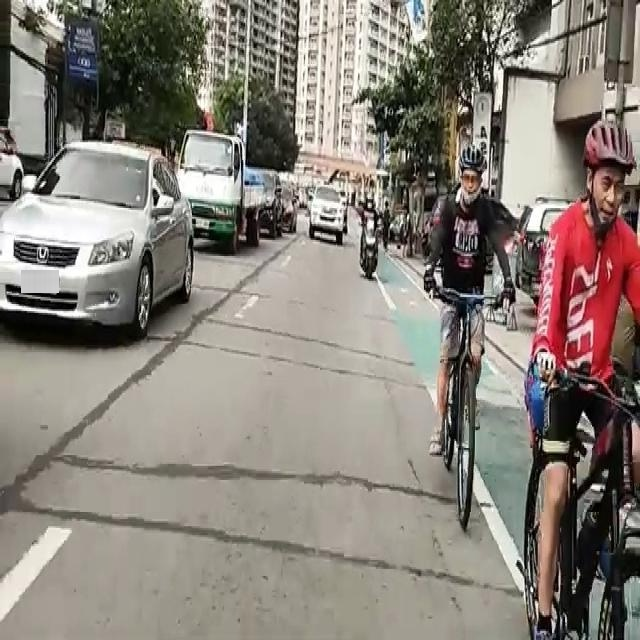car: (6, 157, 192, 336), (307, 191, 343, 245)
motorcycle: (358, 195, 376, 280)
truck: (183, 148, 269, 254)
